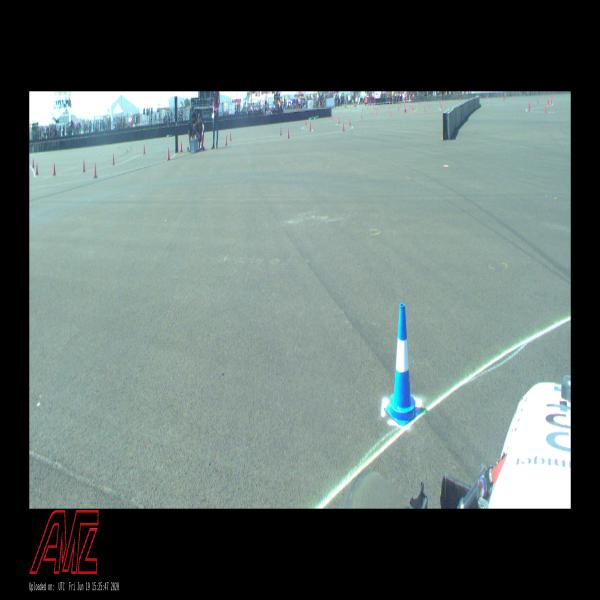blue_cone: (384, 303, 420, 426)
